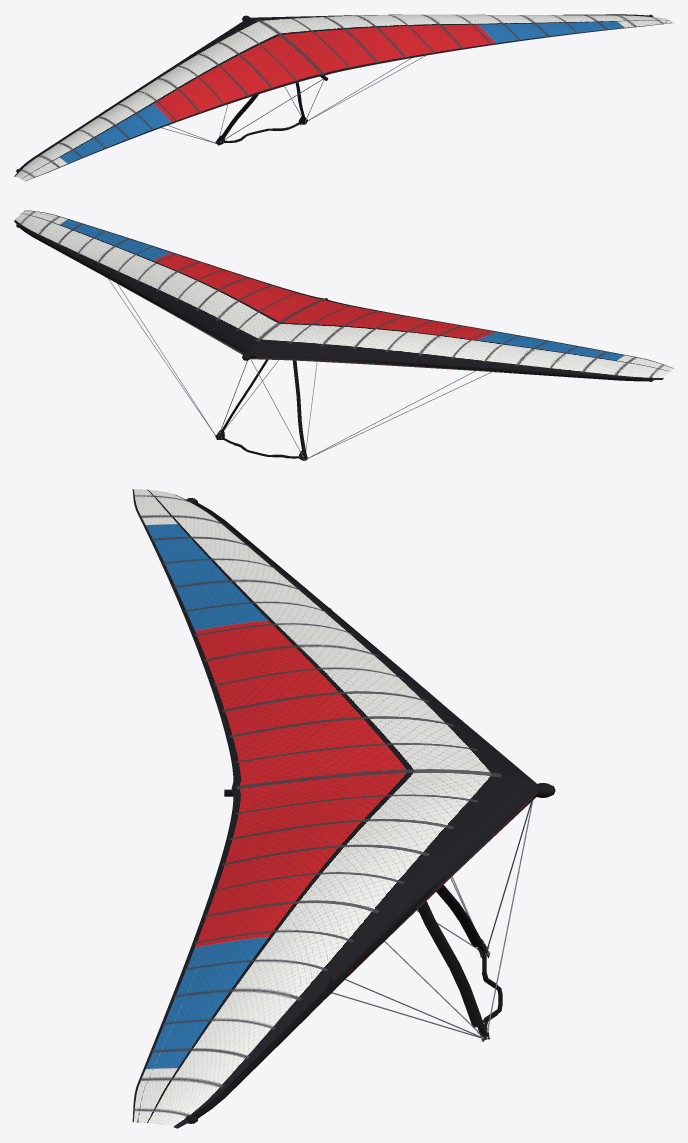
Rendered from glider_aeros_combat_c.glb.
3 renders of one model, top to bottom at view 1: azimuth 30°, elevation 25°; view 2: azimuth 150°, elevation 25°; view 3: azimuth 270°, elevation 25°, orthographic. The views are drawn at different scales.
Visible parts, largest first — view 1: Sail, ControlFrame, Frame; view 2: Sail, ControlFrame, Frame; view 3: Sail, ControlFrame, Frame.
Boxes of the visible parts, bbox=[...] form: Sail: bbox=[14, 14, 673, 181]; ControlFrame: bbox=[161, 55, 425, 145]; Frame: bbox=[16, 14, 653, 172]; Sail: bbox=[14, 210, 673, 380]; ControlFrame: bbox=[108, 278, 491, 460]; Frame: bbox=[16, 223, 653, 381]; Sail: bbox=[132, 489, 537, 1128]; ControlFrame: bbox=[332, 800, 533, 1041]; Frame: bbox=[185, 498, 555, 1123].
Size of the model in its own units: 10.3 by 1.77 by 2.91.
8 materials, 1 textured.
